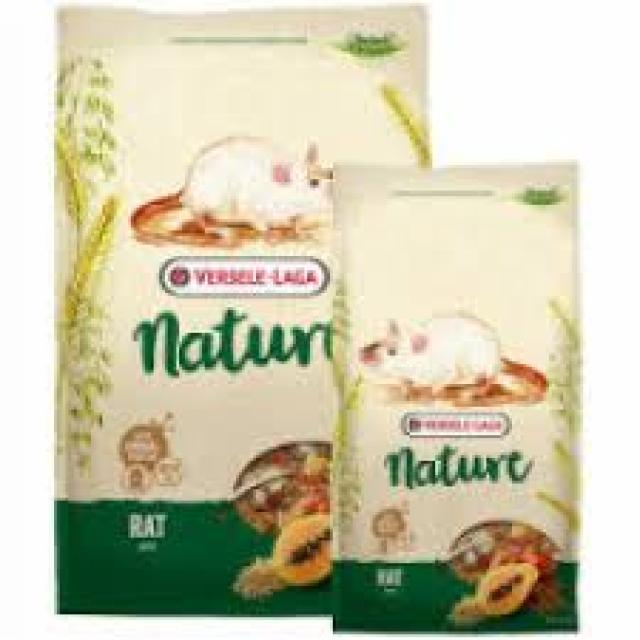rat: (222, 438, 333, 600), (173, 131, 333, 236)
